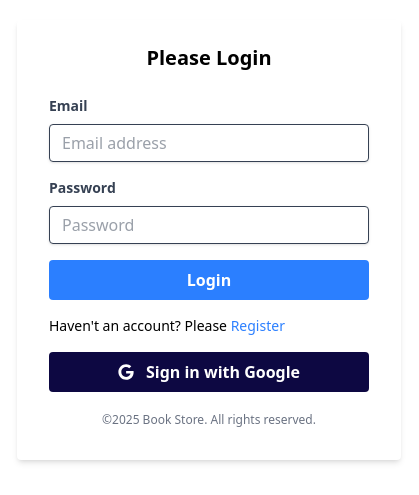
Scenario: Login Component › displays error message on login failure
In the field with placeholder "Email address": {"x": 209, "y": 143} [49,124,369,162], type "wrong@example.com"
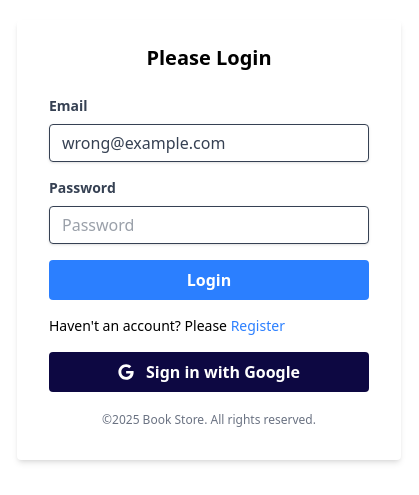
In the password field with placeholder "Password": {"x": 209, "y": 225} [49,206,369,244], type "wrongpass"
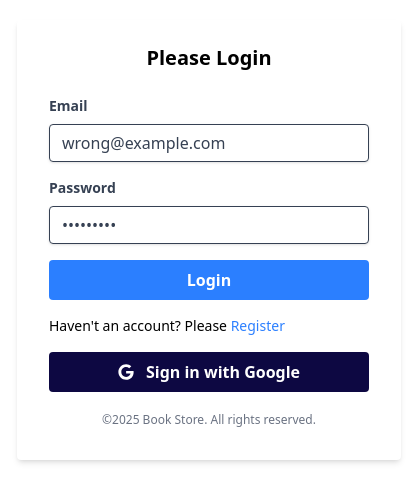
Click the button "Login": {"x": 209, "y": 280} [49,260,369,300]
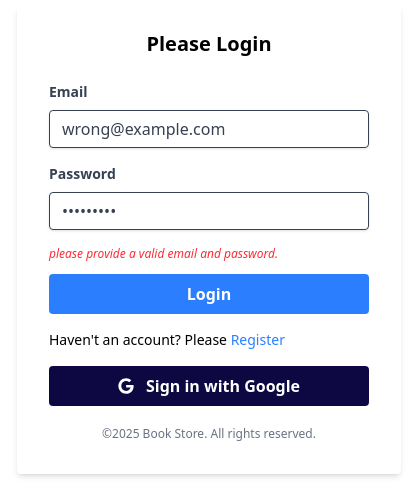
Expected: the text "please provide a valid email and password." is shown, [49,245,278,262]
